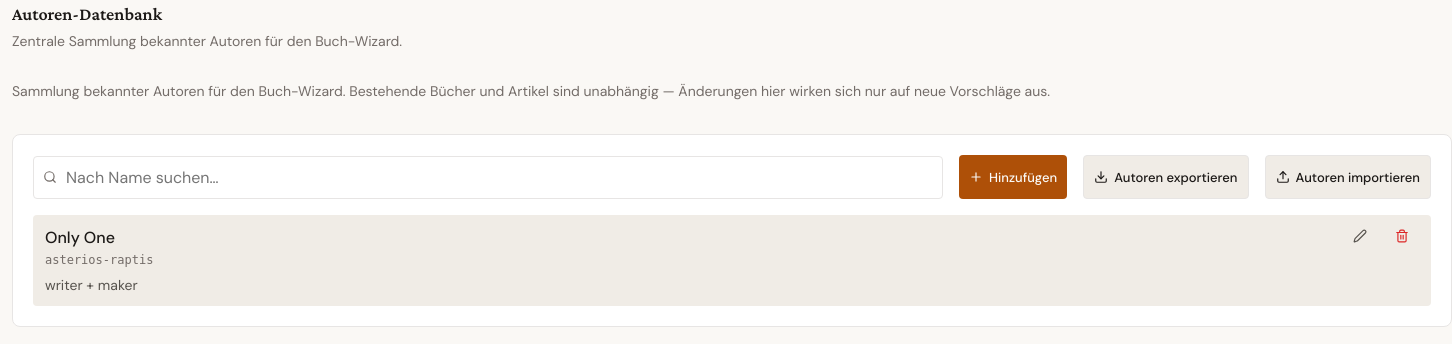
Test: AuthorsDatabase › shows the with-search empty state when filter has no matches
Expected: the element with test id "authors-database-row-a1" is shown, left=33, top=215, right=1431, bottom=306
Type "xyz-no-match" into the search field with test id "authors-database-search" at (488, 177), box left=33, top=156, right=943, bottom=199
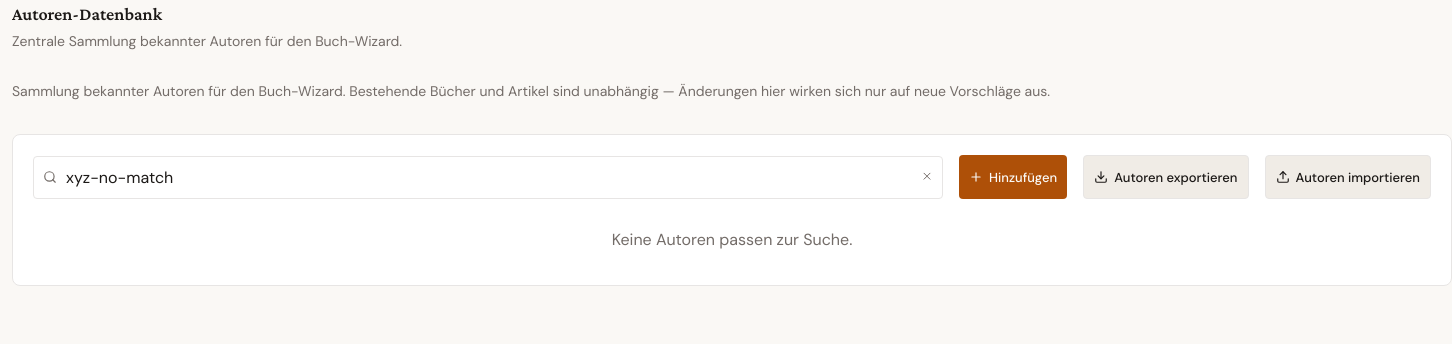
Expected: the text "Keine Autoren passen zur Suche." is shown, left=612, top=229, right=852, bottom=250
